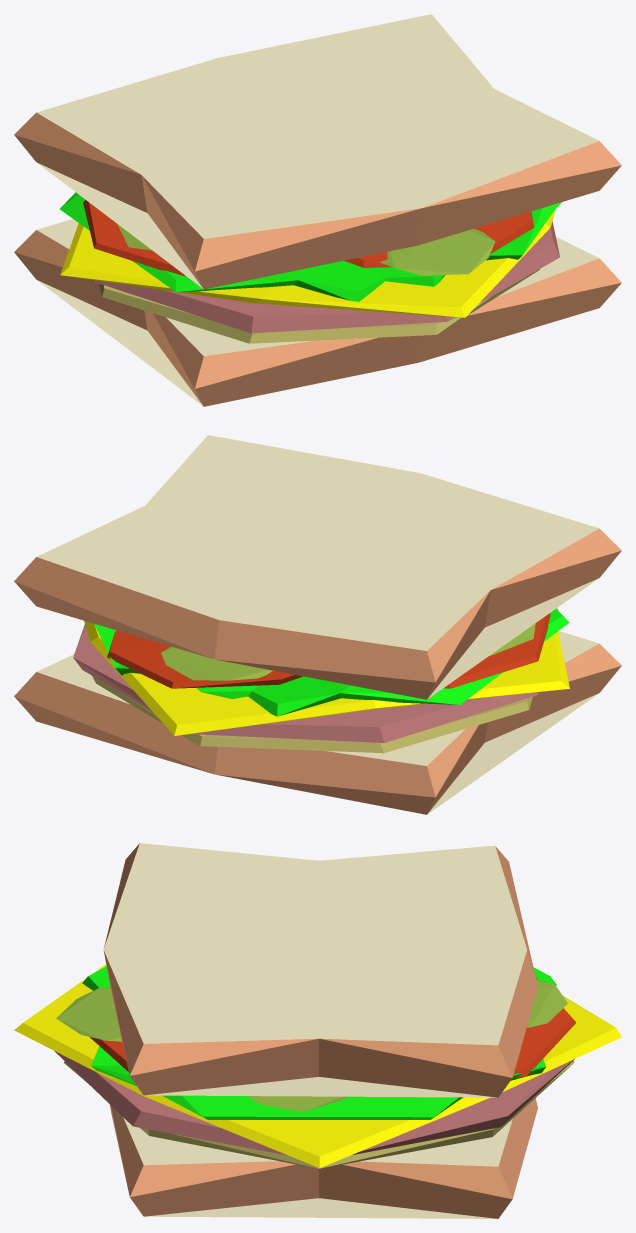
The model's file is Sandwiche.fbx.
3 views of the same model, one above another, from view 1: azimuth 30°, elevation 25°; view 2: azimuth 150°, elevation 25°; view 3: azimuth 270°, elevation 25° (orthographic). The views are drawn at different scales.
Parts seen in each view (by area): view 1: Sandwiche; view 2: Sandwiche; view 3: Sandwiche.
Boxes of the visible parts, <box> form: Sandwiche: <box>14,14,621,406</box>; Sandwiche: <box>14,435,621,814</box>; Sandwiche: <box>14,843,621,1218</box>.
Bounding box in the file's own units: 15.23 × 4.98 × 15.19.
